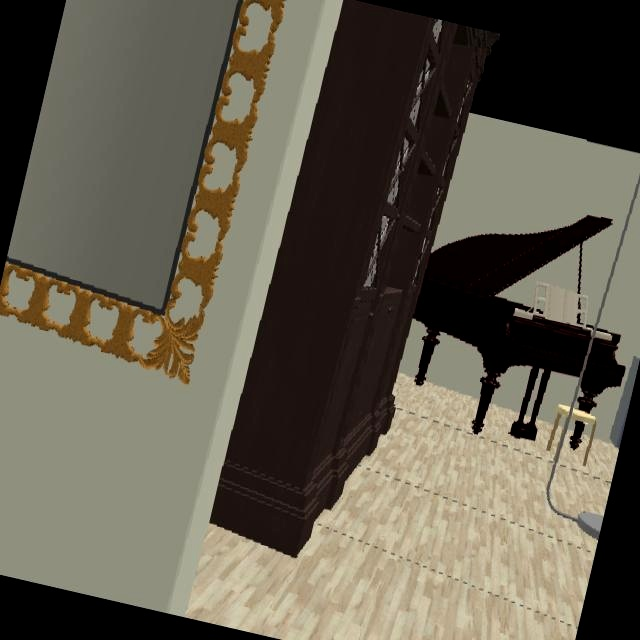bookshelf: (210, 0, 497, 555)
